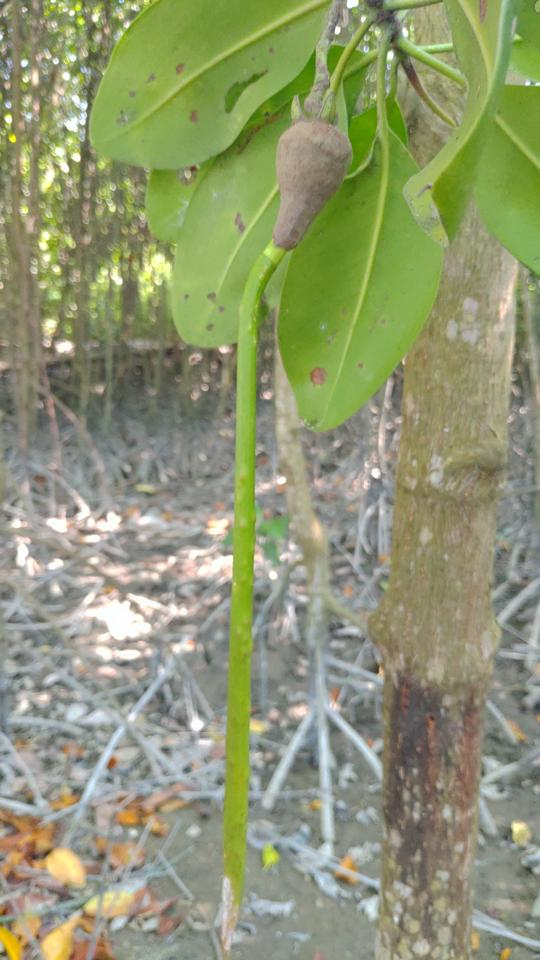setengah matang: (203, 95, 367, 955)
